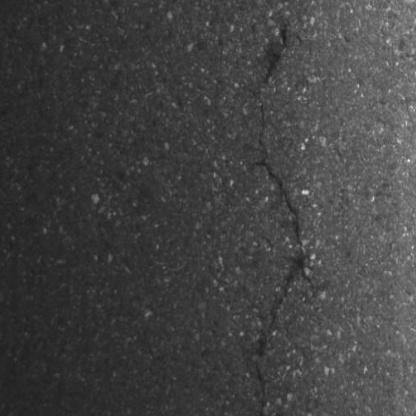Cracks: (251, 102, 318, 336), (261, 16, 293, 90), (253, 362, 271, 416), (253, 340, 267, 358), (282, 0, 299, 4)
